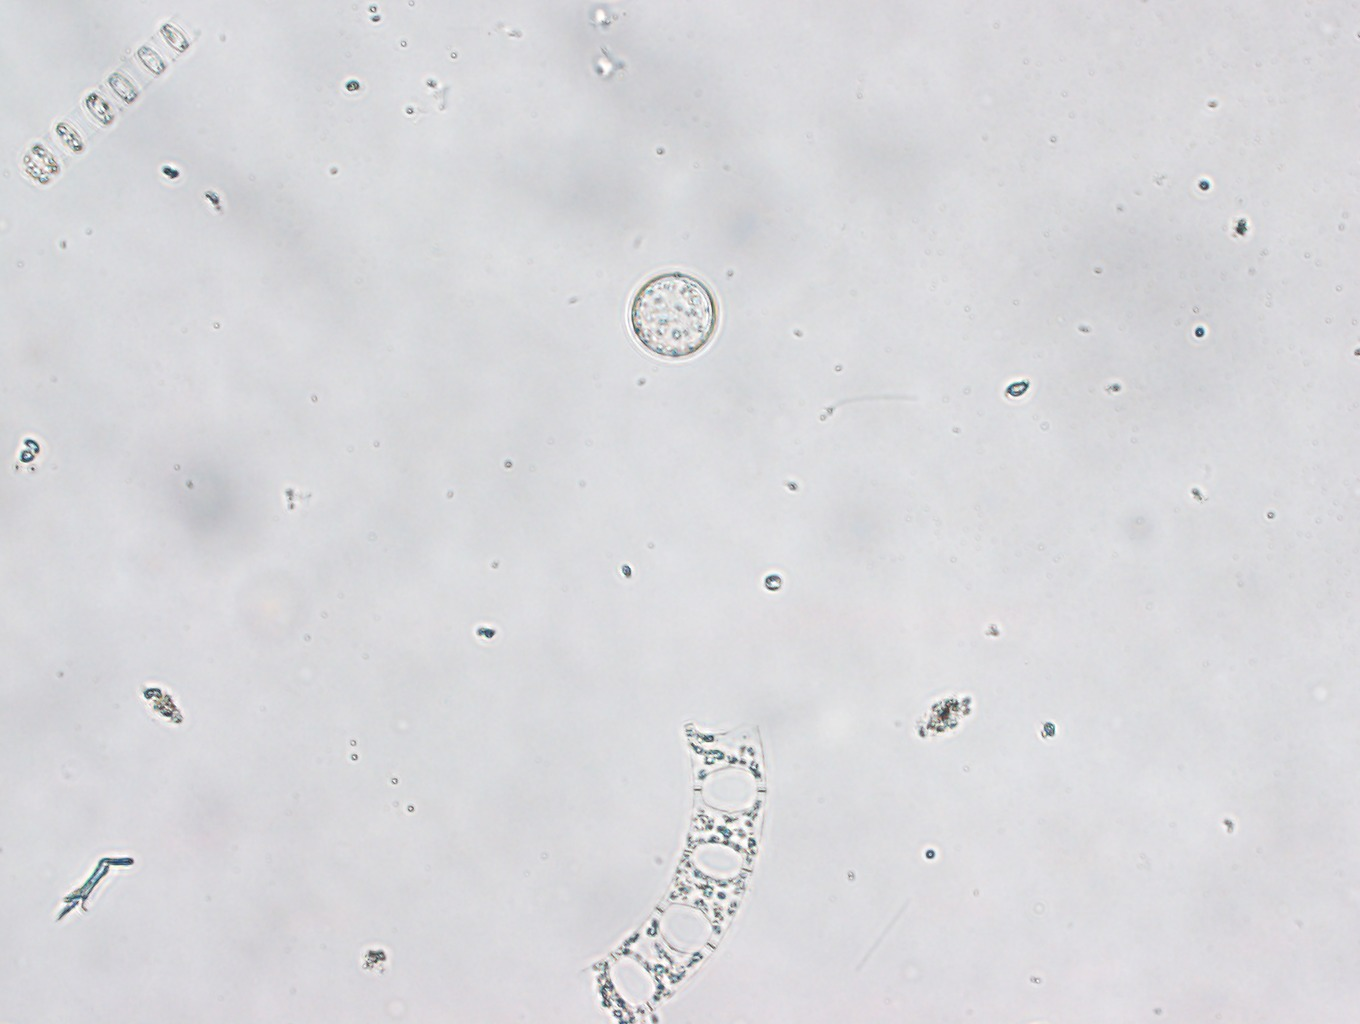eucampia: (584, 719, 767, 1024)
skeletonema: (19, 14, 200, 191)
